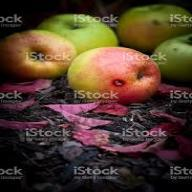apple: (71, 46, 160, 100), (2, 33, 78, 76)
